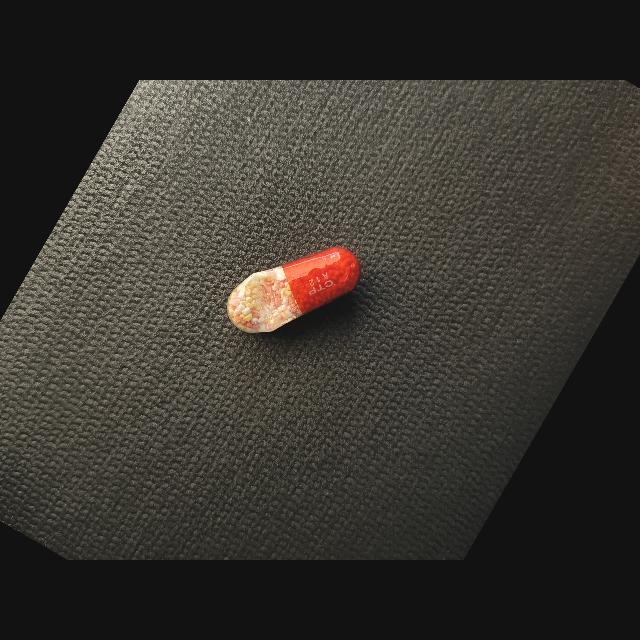Defective Capsule: (227, 247, 362, 333)
